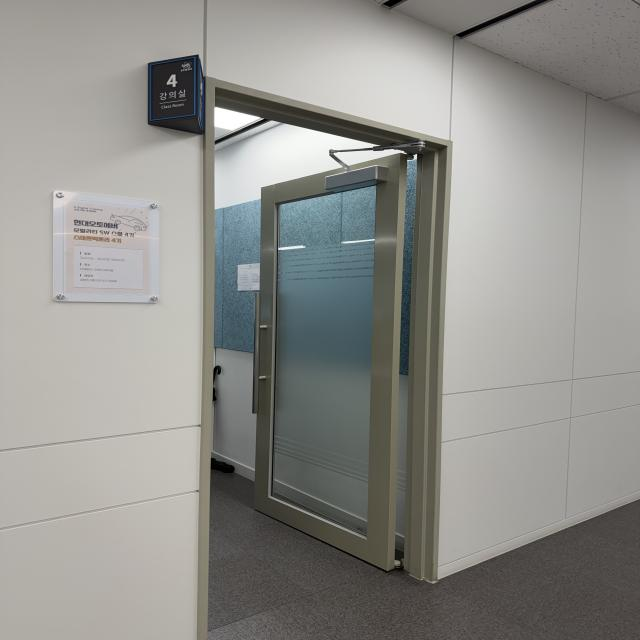room4: (149, 56, 197, 120)
